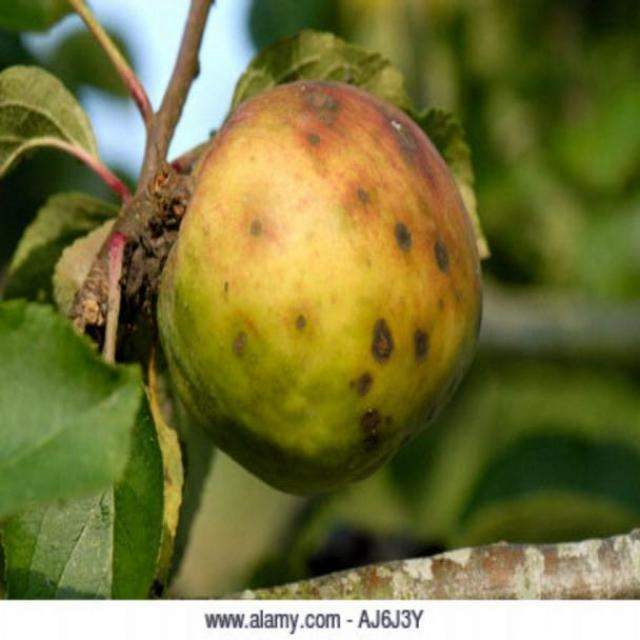SCAB: (154, 46, 506, 477)
